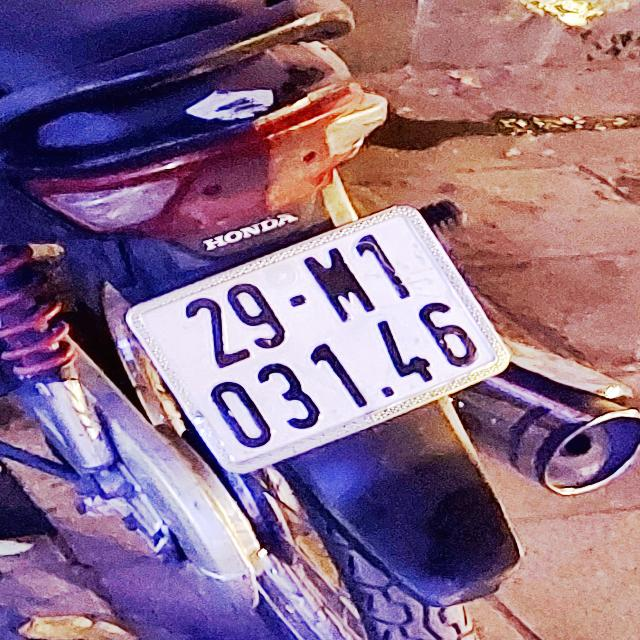license_plate: (131, 209, 510, 470)
